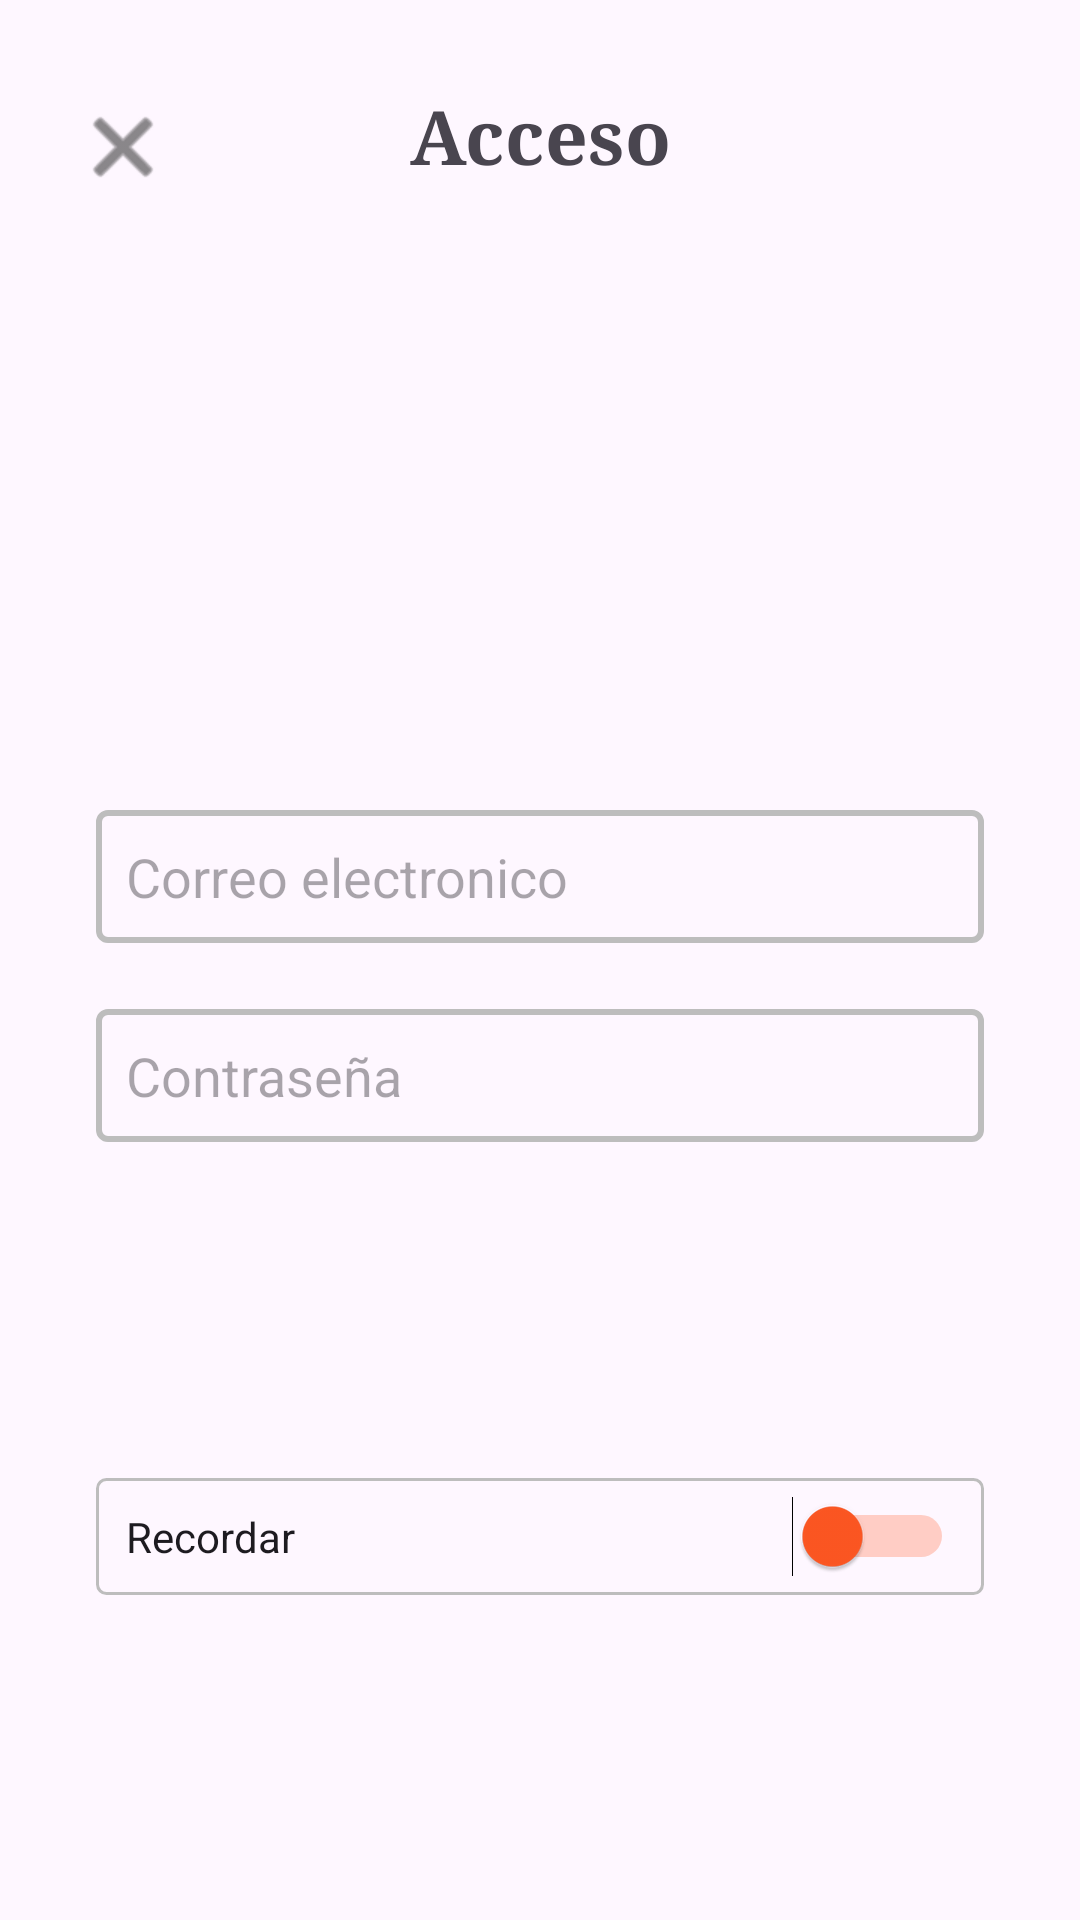

Where to tap for icons on this 1080x1920 app screen, as [x,y]:
close clear cancel: [123,147]
